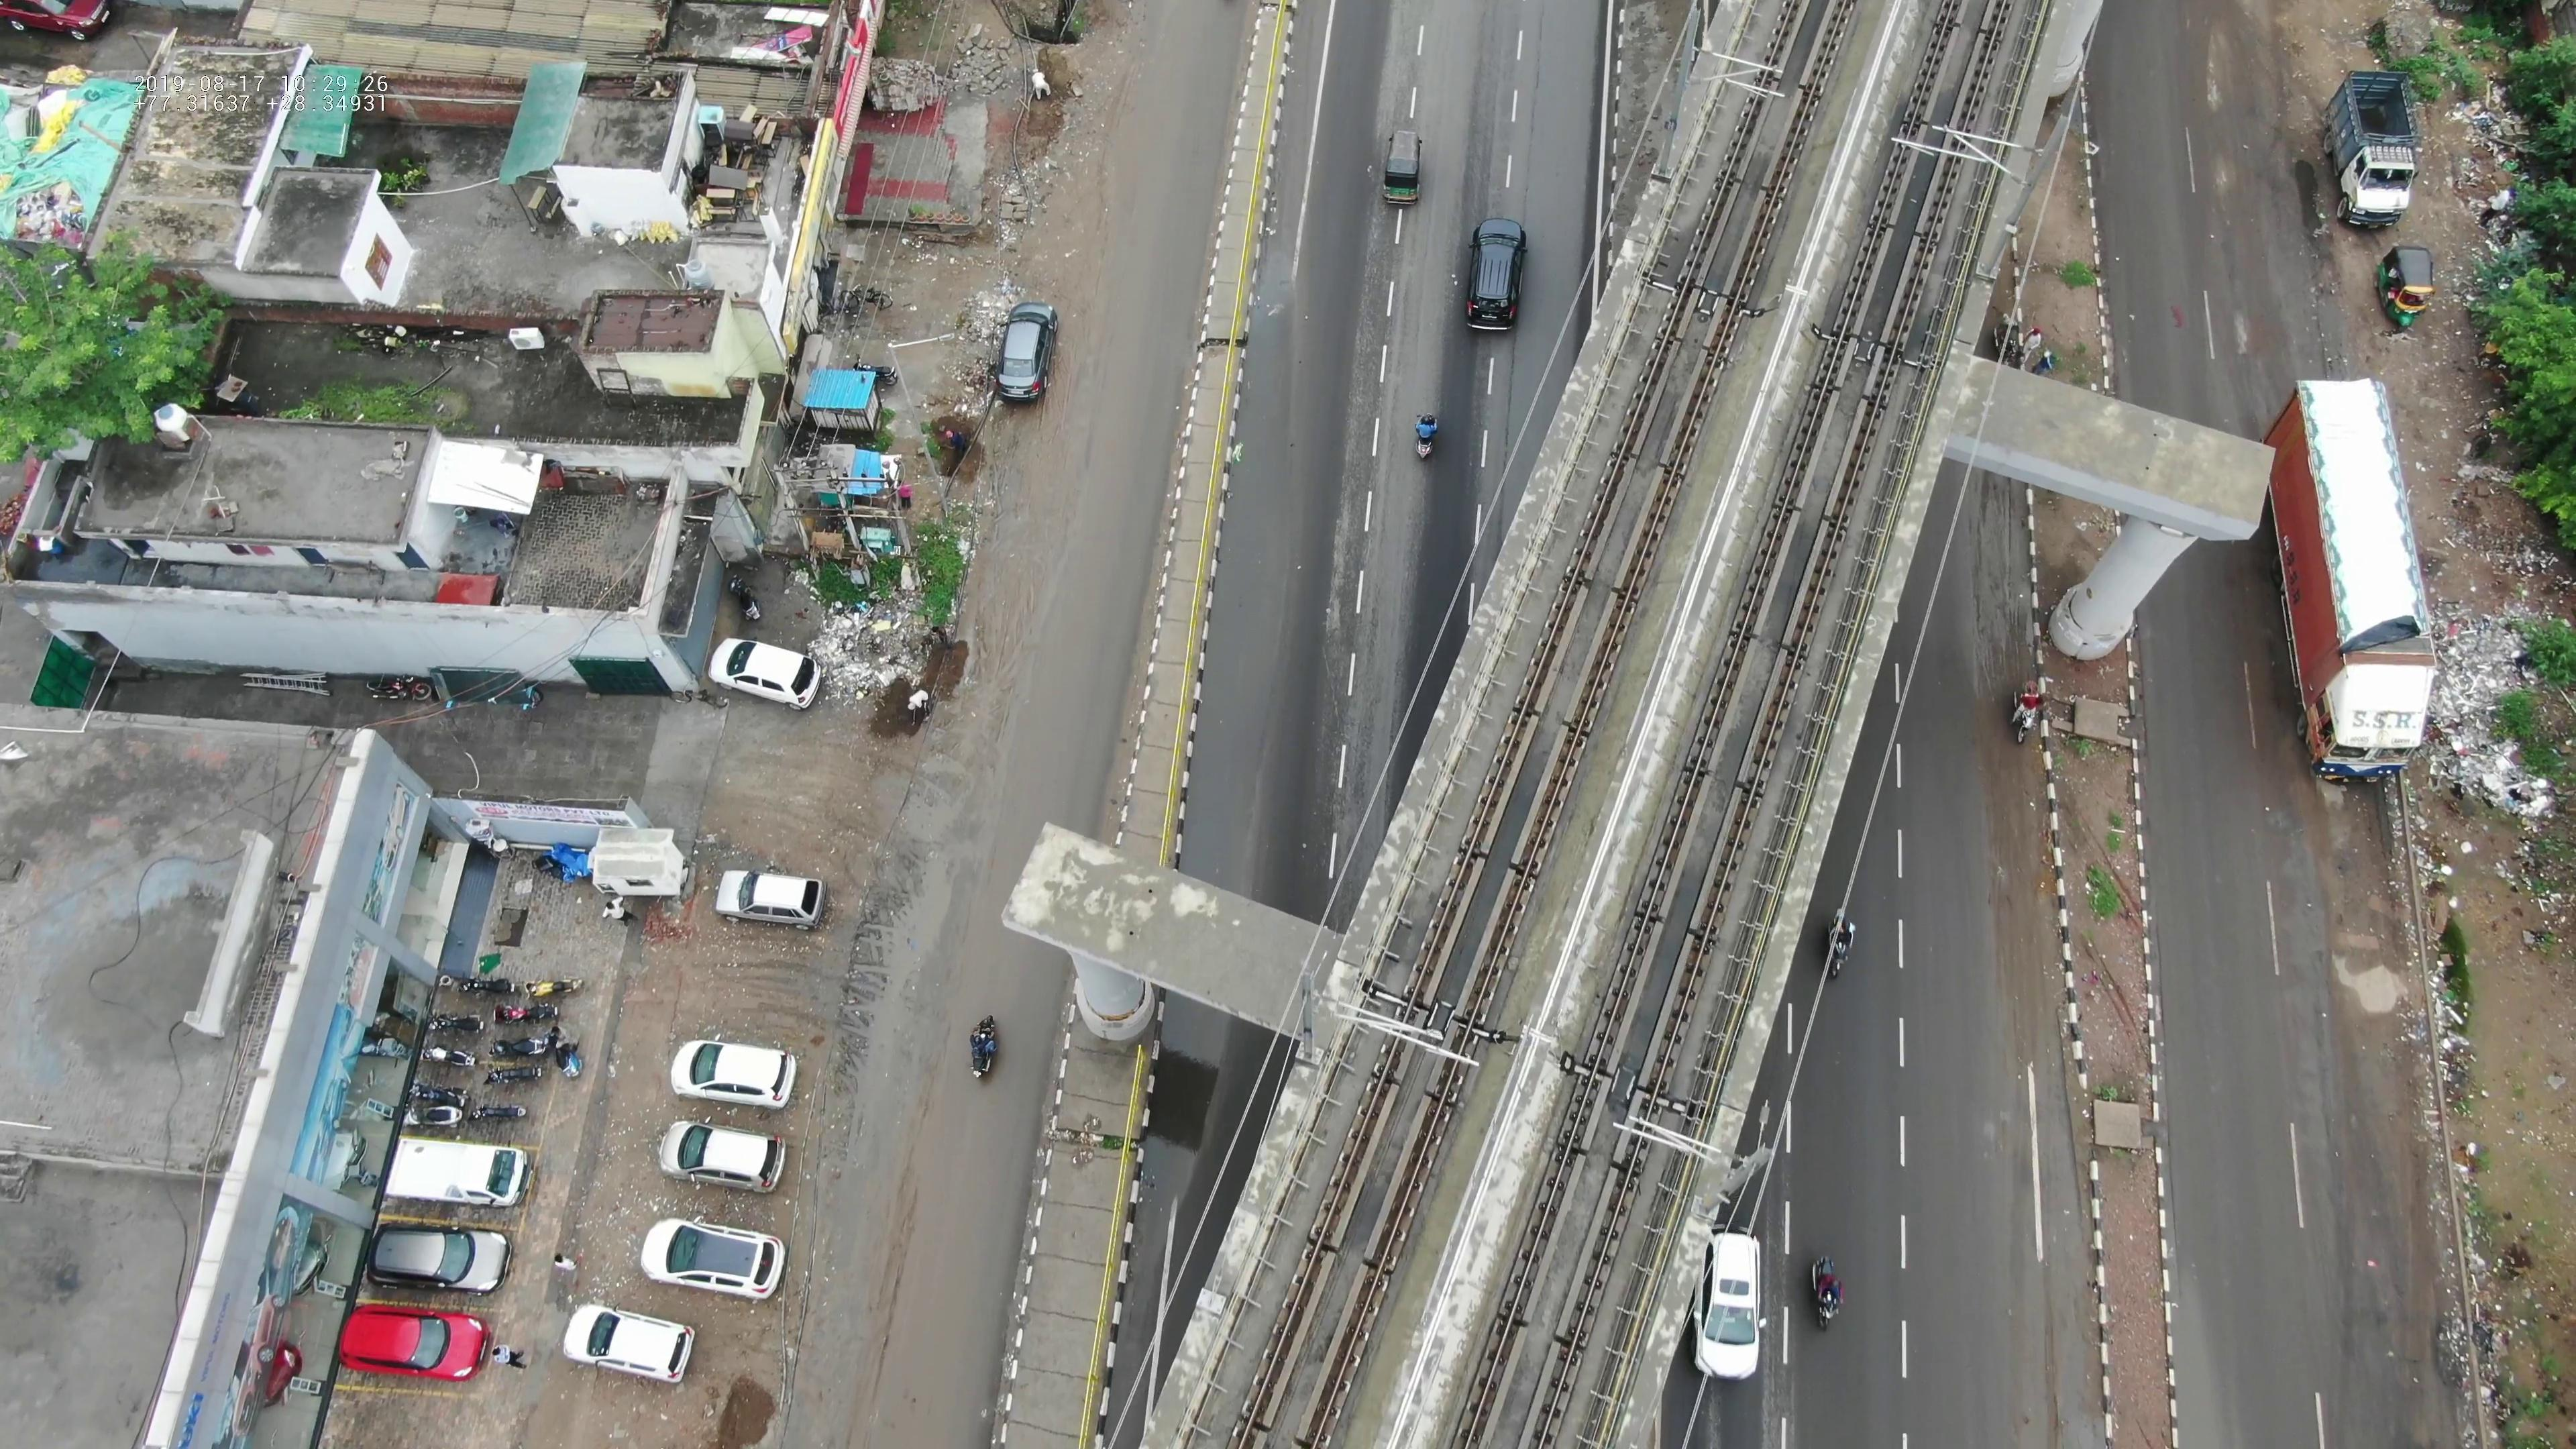Muddy_road: (828, 851, 964, 1095), (2316, 819, 2419, 1065), (1978, 734, 2054, 1026), (1960, 479, 2038, 660)
Road_side_garbage: (2419, 582, 2565, 830)
